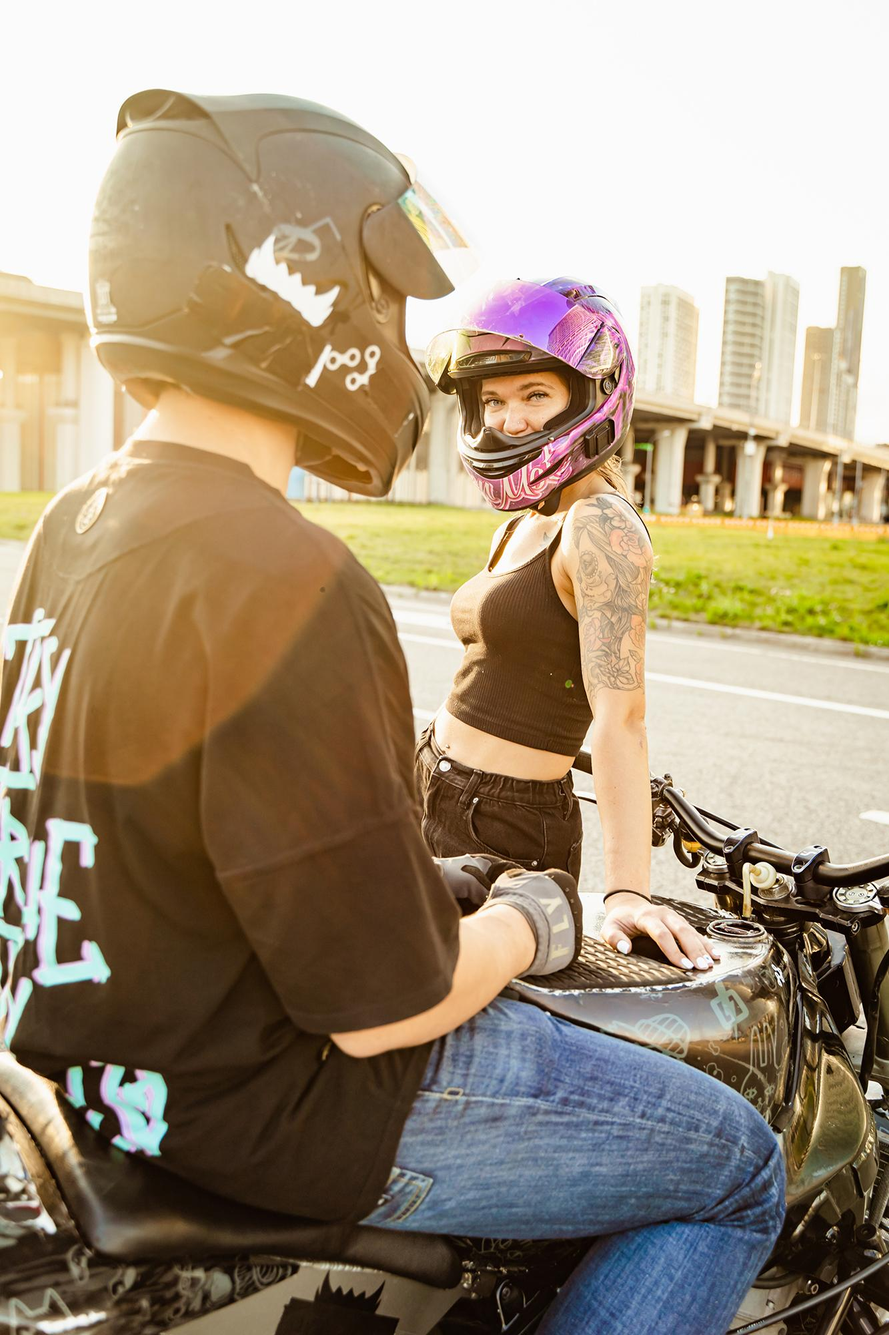helmet: (80, 84, 472, 502), (421, 270, 639, 519)
